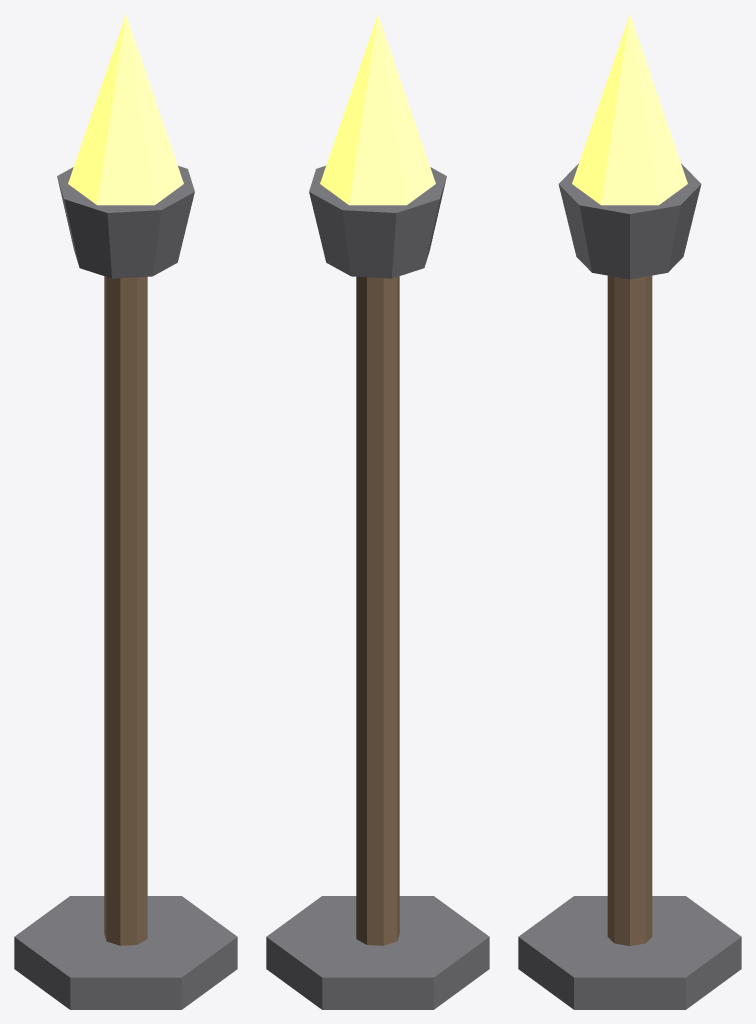
The model's file is torch_standing.glb.
3 views of the same model, side by side, from view 1: azimuth 30°, elevation 25°; view 2: azimuth 150°, elevation 25°; view 3: azimuth 270°, elevation 25° (orthographic).
Parts seen in each view (by area): view 1: torch_standing; view 2: torch_standing; view 3: torch_standing.
Part boxes in pixels (x1,y1,x2,y2): torch_standing: [14, 14, 237, 1009]; torch_standing: [266, 14, 489, 1009]; torch_standing: [518, 14, 741, 1009].
Bounding box in the file's own units: 0.433 × 2.36 × 0.4998.
